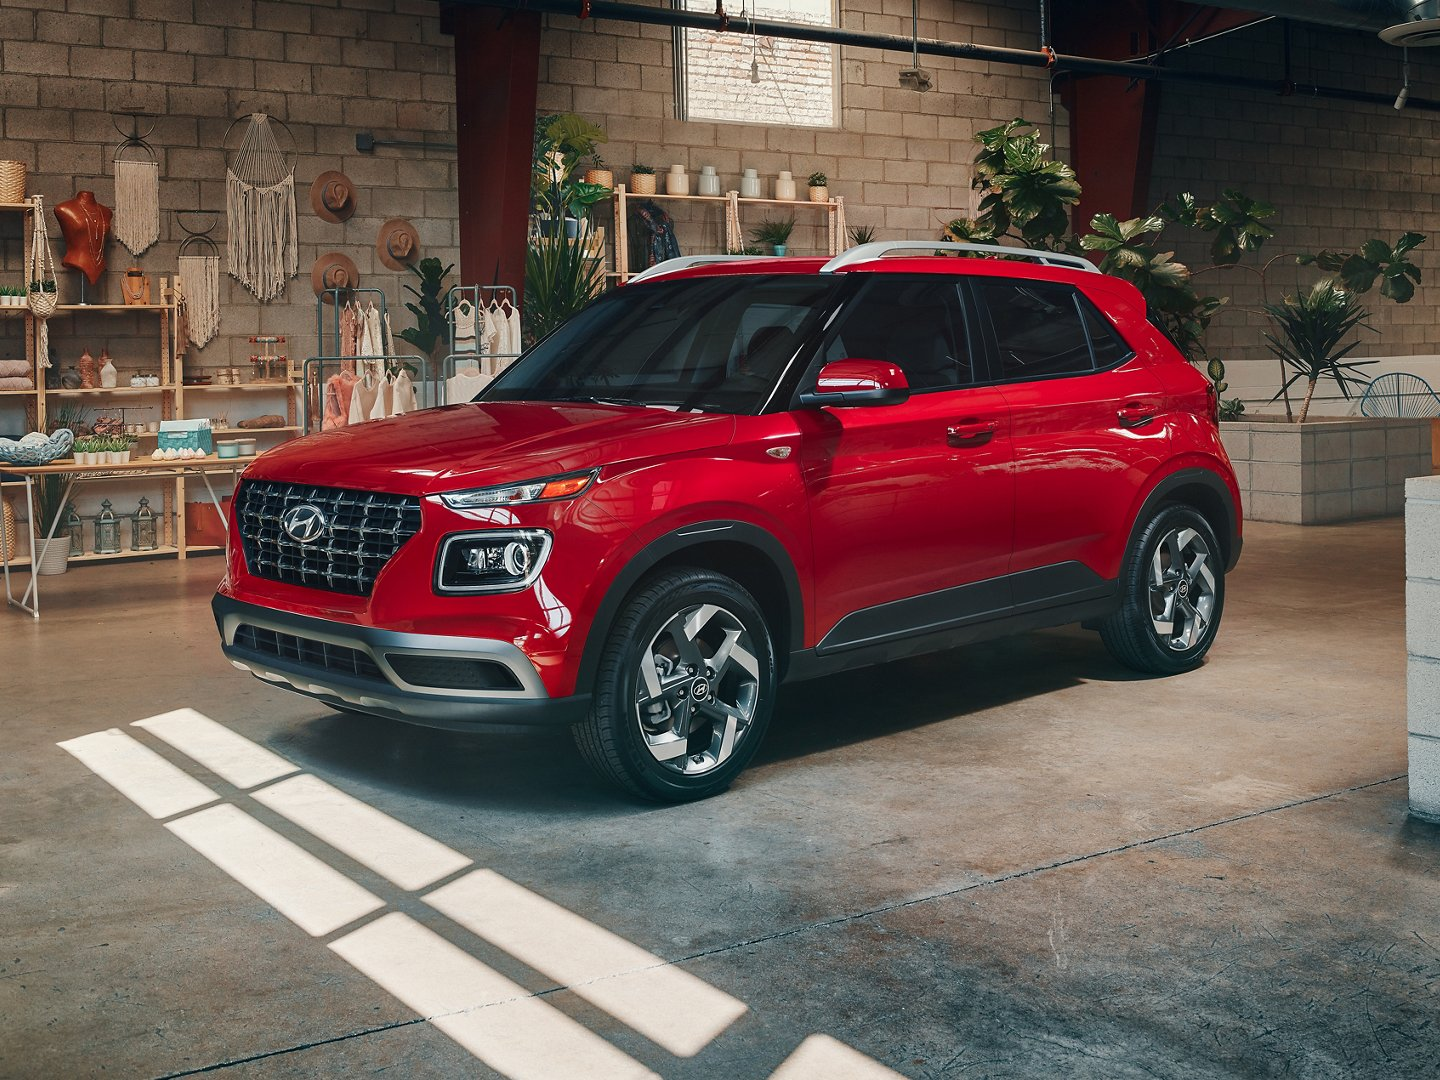car: (210, 242, 1244, 805)
